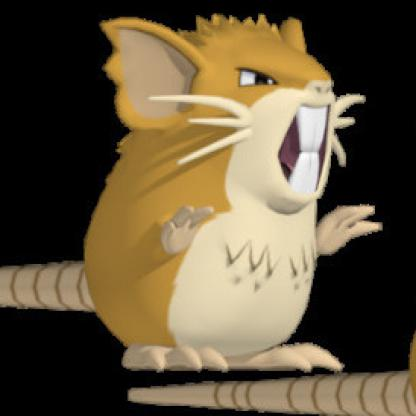Raticate: (1, 1, 370, 374)
